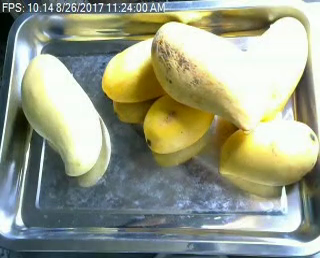Mango: (149, 20, 264, 131), (18, 55, 106, 177), (220, 119, 320, 188), (244, 14, 310, 117), (101, 37, 170, 100), (143, 94, 217, 152)
